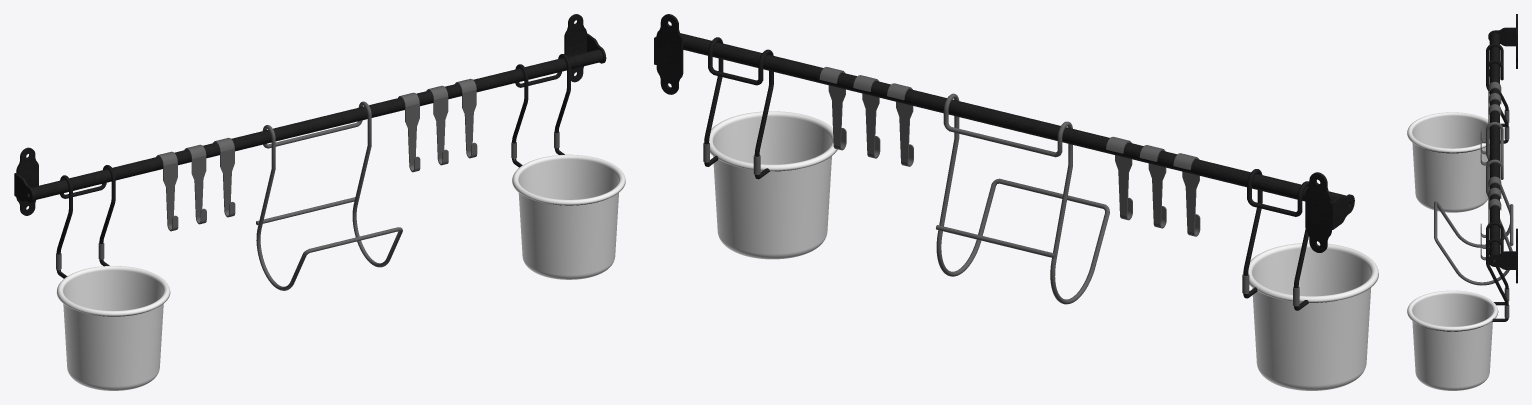
File: 095 - stand divari jadid meshki goldan sefid.glb
The picture shows the model from 3 angles, left to right: view 1: azimuth 30°, elevation 25°; view 2: azimuth 150°, elevation 25°; view 3: azimuth 270°, elevation 25°; orthographic projection. The views are drawn at different scales.
Visible parts, largest first — view 1: Group#30 [133815], Group#5 [134649], Group#7 [133827], Group#1 [161669] (×6), Group#14 [133840], [75502] (×2), [21785], [22668]; view 2: Group#30 [133815], Group#5 [134649], Group#7 [133827], Group#1 [161669] (×6), Group#14 [133840], [75502] (×2), [21785], [22668], Group#15 [133839]; view 3: Group#30 [133815], Group#5 [134649], Group#7 [133827], Group#14 [133840], [75502] (×2), Group#1 [161669] (×6), Group#159 [22321] (×2), Group#15 [133839].
Part boxes in pixels (x1,y1,x2,y2): Group#30 [133815]: [512, 154, 625, 279]; Group#5 [134649]: [56, 266, 170, 390]; Group#7 [133827]: [31, 49, 603, 199]; Group#1 [161669] (×6): [156, 78, 477, 231]; Group#14 [133840]: [256, 101, 402, 290]; [75502] (×2): [56, 54, 602, 316]; [21785]: [564, 14, 586, 82]; [22668]: [16, 147, 38, 215]; Group#30 [133815]: [709, 111, 837, 259]; Group#5 [134649]: [1248, 243, 1378, 390]; Group#7 [133827]: [680, 33, 1345, 201]; Group#1 [161669] (×6): [819, 67, 1200, 236]; Group#14 [133840]: [936, 93, 1109, 304]; [75502] (×2): [704, 37, 1336, 310]; [21785]: [656, 14, 683, 94]; [22668]: [1305, 172, 1331, 252]; Group#15 [133839]: [936, 225, 1055, 258]; Group#30 [133815]: [1407, 290, 1498, 390]; Group#5 [134649]: [1407, 112, 1489, 212]; Group#7 [133827]: [1489, 32, 1499, 261]; Group#14 [133840]: [1434, 122, 1512, 285]; [75502] (×2): [1418, 43, 1508, 331]; Group#1 [161669] (×6): [1480, 81, 1501, 260]; Group#159 [22321] (×2): [1488, 27, 1517, 269]; Group#15 [133839]: [1510, 204, 1513, 245].
Size of the model in its own units: 0.806 by 0.2792 by 0.168.
6 materials, 2 textured.
